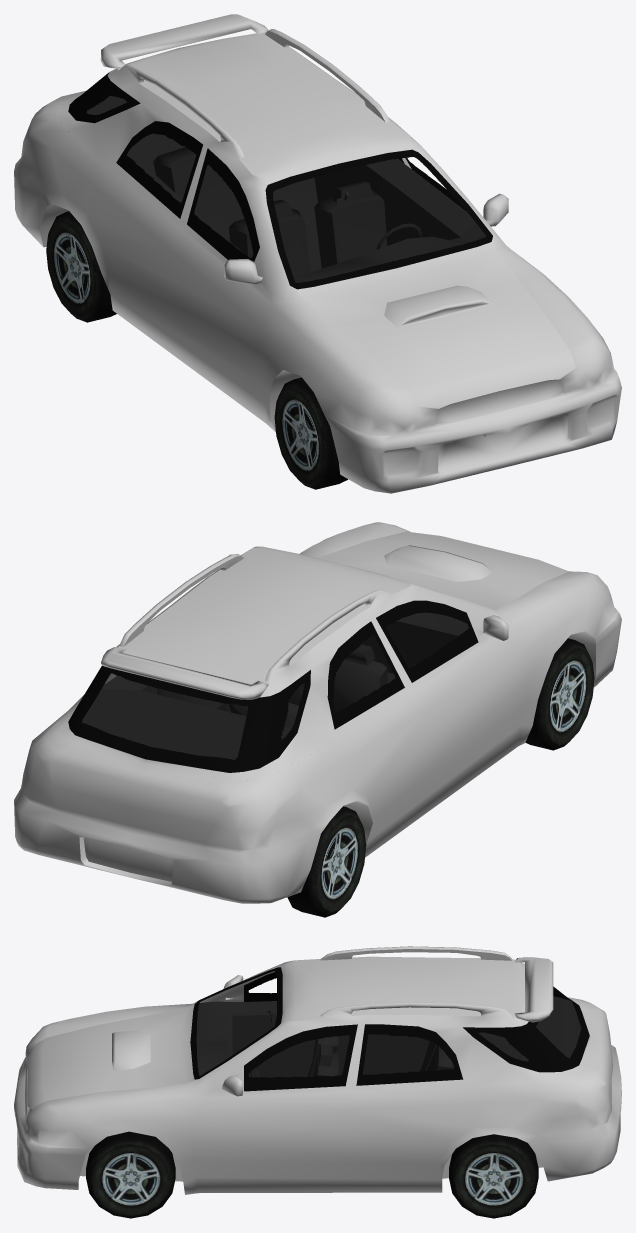
The model's file is subaru.FBX.
The picture shows the model from 3 angles, top to bottom: view 1: azimuth 30°, elevation 25°; view 2: azimuth 150°, elevation 25°; view 3: azimuth 270°, elevation 25°; orthographic projection. The views are drawn at different scales.
Parts seen in each view (by area): view 1: SWWhiB, SWWhiI, SWWhiG, SWWhiT03, SWWhiT02; view 2: SWWhiB, SWWhiI, SWWhiG, SWWhiT02, SWWhiT03; view 3: SWWhiB, SWWhiI, SWWhiG, SWWhiT01, SWWhiT00.
Part boxes in pixels (x1=…): SWWhiB: x1=14, y1=14, x2=621, y2=493; SWWhiI: x1=68, y1=95, x2=485, y2=282; SWWhiG: x1=68, y1=72, x2=492, y2=289; SWWhiT03: x1=274, y1=377, x2=347, y2=489; SWWhiT02: x1=46, y1=211, x2=116, y2=322; SWWhiB: x1=14, y1=522, x2=621, y2=903; SWWhiI: x1=82, y1=612, x2=468, y2=759; SWWhiG: x1=68, y1=600, x2=478, y2=772; SWWhiT02: x1=287, y1=806, x2=366, y2=917; SWWhiT03: x1=525, y1=638, x2=594, y2=750; SWWhiB: x1=14, y1=946, x2=621, y2=1194; SWWhiI: x1=196, y1=996, x2=581, y2=1077; SWWhiG: x1=190, y1=967, x2=589, y2=1091; SWWhiT01: x1=86, y1=1131, x2=175, y2=1218; SWWhiT00: x1=449, y1=1134, x2=538, y2=1218.
Size of the model in its own units: 74.05 by 60.97 by 173.
